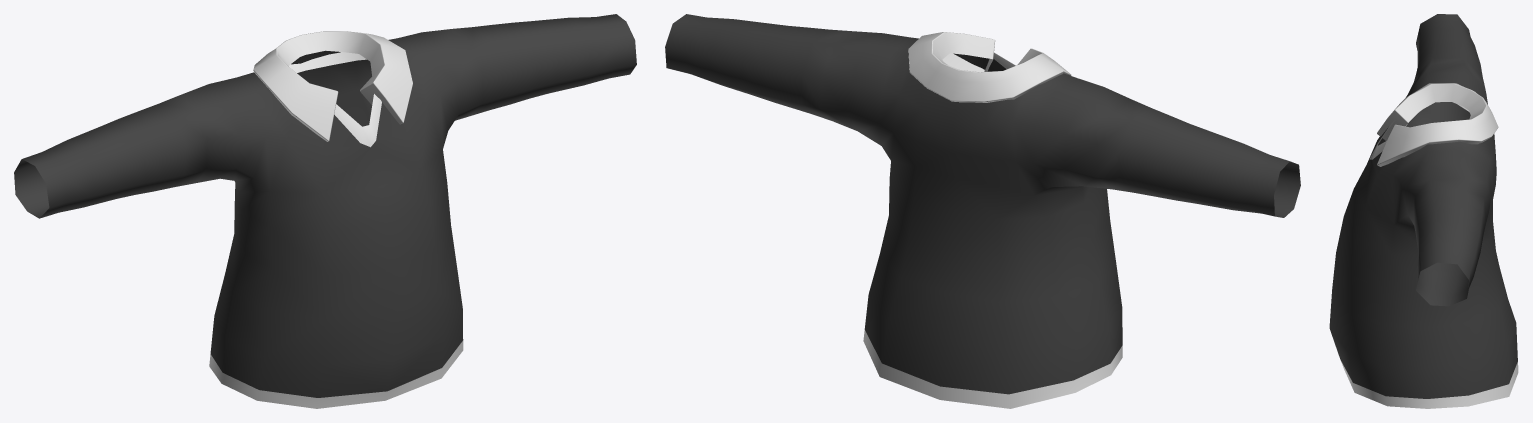
Rendered from Outerwear_Black_003.glb.
The picture shows the model from 3 angles, left to right: view 1: azimuth 30°, elevation 25°; view 2: azimuth 150°, elevation 25°; view 3: azimuth 270°, elevation 25°; orthographic projection. The views are drawn at different scales.
Parts seen in each view (by area): view 1: Outerwear_Black_003; view 2: Outerwear_Black_003; view 3: Outerwear_Black_003.
Boxes of the visible parts, x1,y1,x2,y2 form: Outerwear_Black_003: (14,14,636,408); Outerwear_Black_003: (665,14,1300,408); Outerwear_Black_003: (1329,14,1518,408).
Bounding box in the file's own units: 1.3 × 0.6517 × 0.4131.
1 material, 1 textured.
